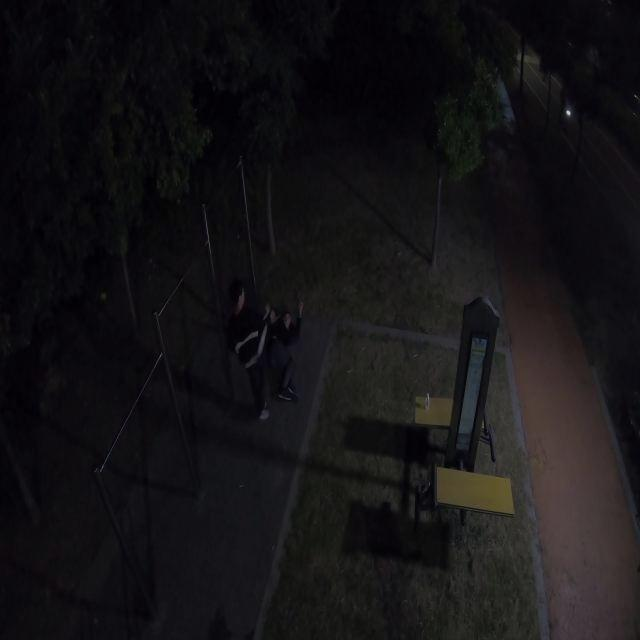fight: (223, 282, 304, 418)
